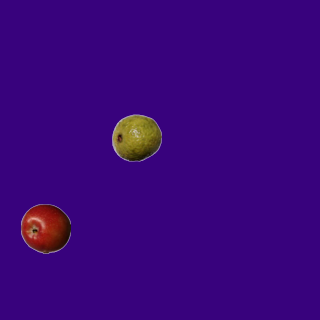Apple Braeburn: (20, 203, 70, 253)
Guava: (111, 112, 161, 162)
